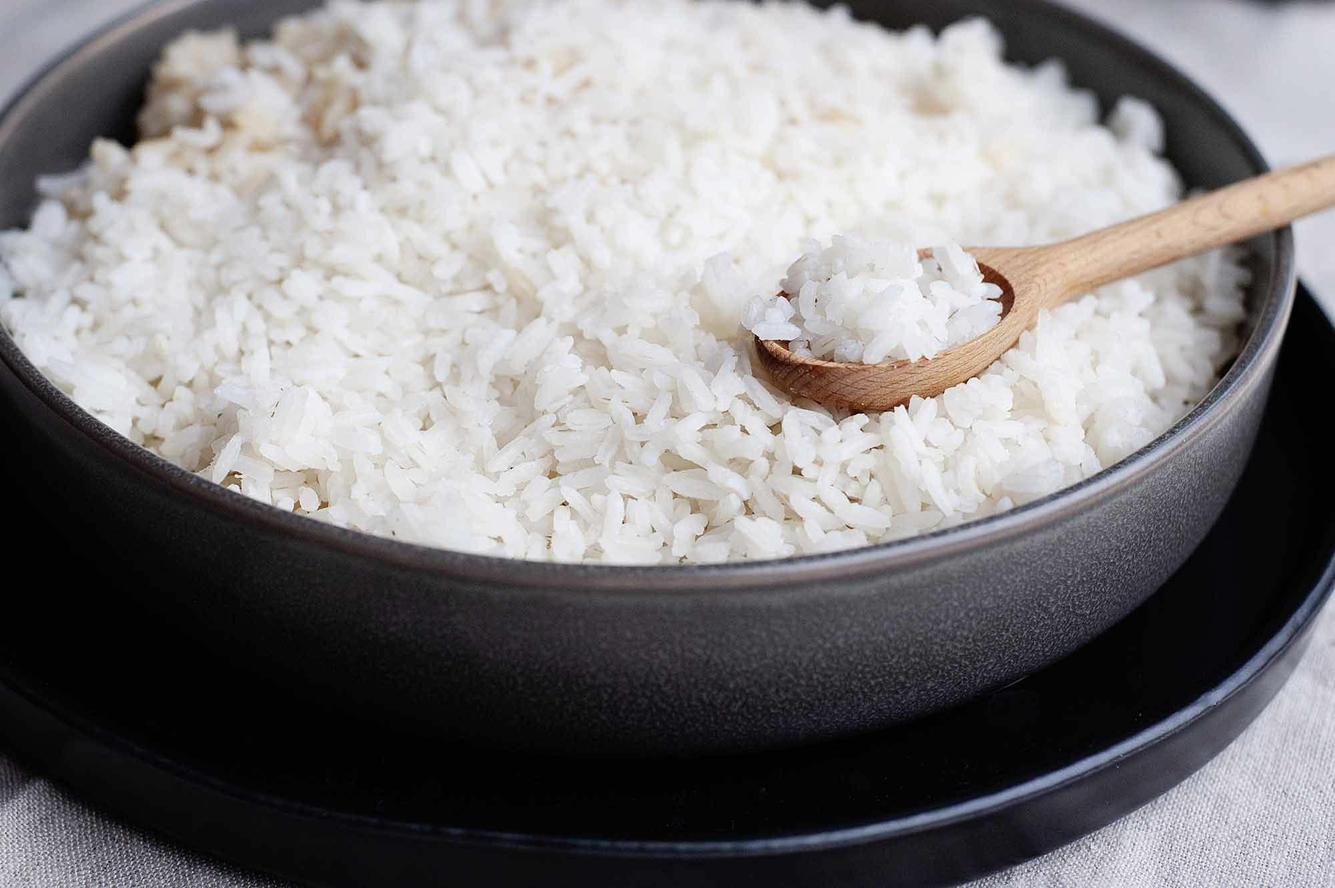WhiteRice: (0, 0, 1258, 557)
